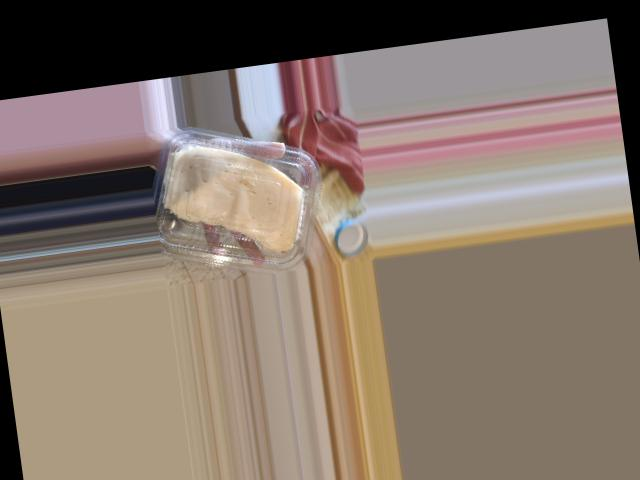cheese: (145, 120, 334, 281)
